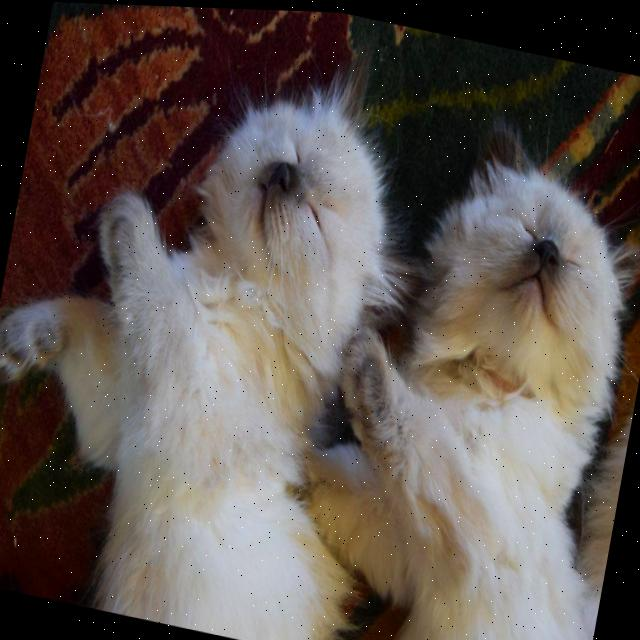Neva Masquerade: (0, 32, 429, 640), (264, 113, 640, 640)
